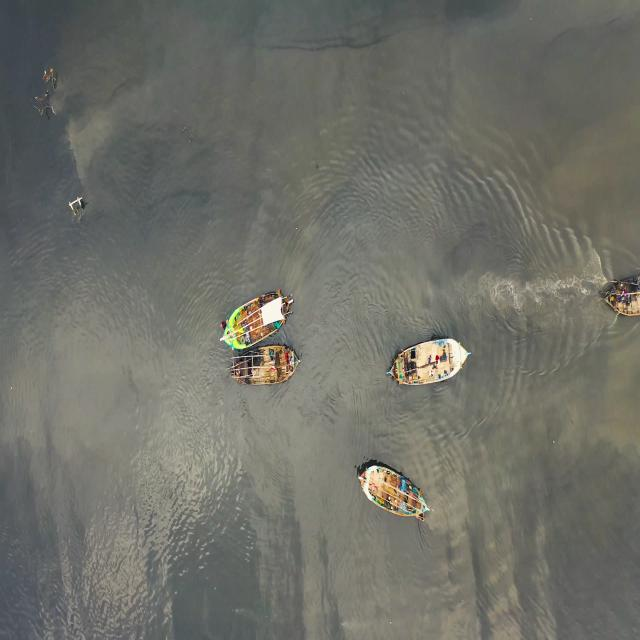ship: (221, 280, 295, 352), (358, 461, 432, 524), (386, 335, 477, 381), (229, 347, 307, 396), (604, 263, 639, 329)
